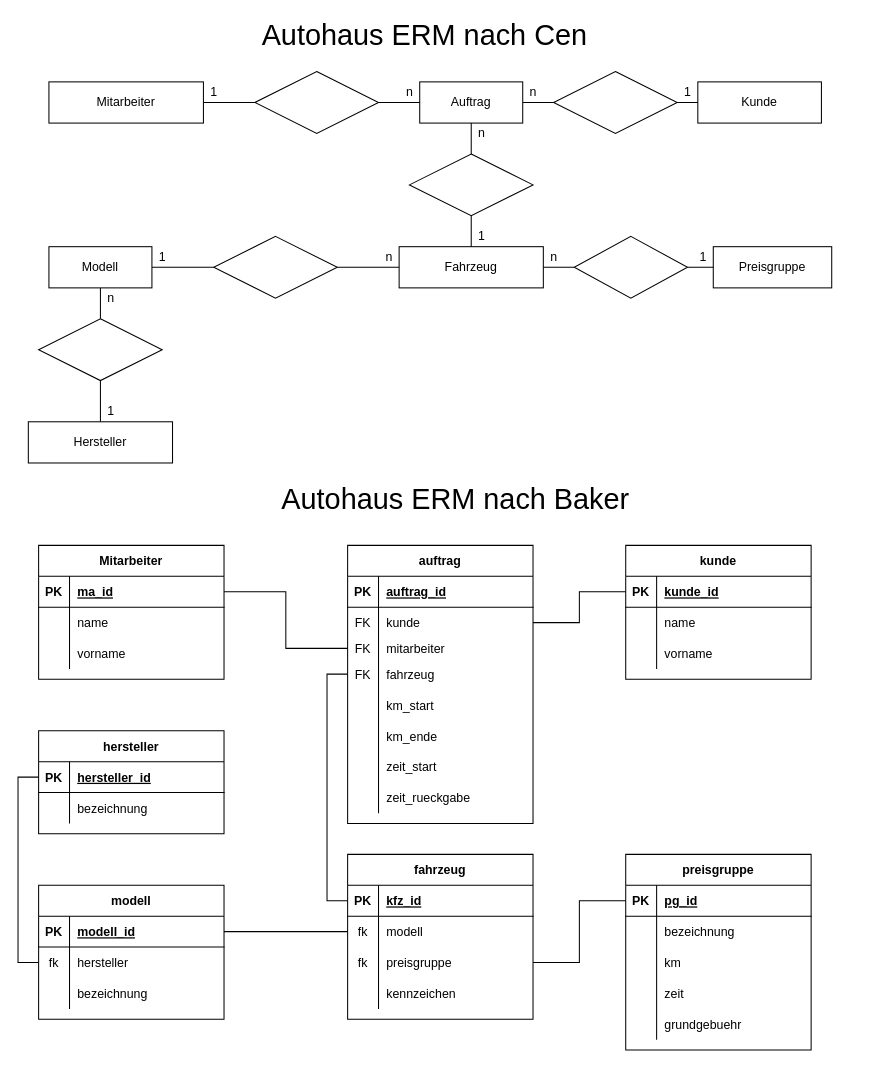
The diagram is 870 pixels wide and 1068 high, and some of its shapes have lost their labels. Each missing label, with the centre of its shape:
baut: [100,349]
bearbeitet: [316,102]
beinhaltet: [470,184]
erteilt: [615,102]
ist ein: [275,266]
Relationship: [630,266]
